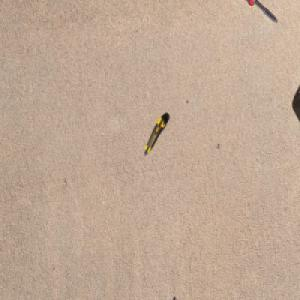Cutter: (143, 114, 168, 157)
